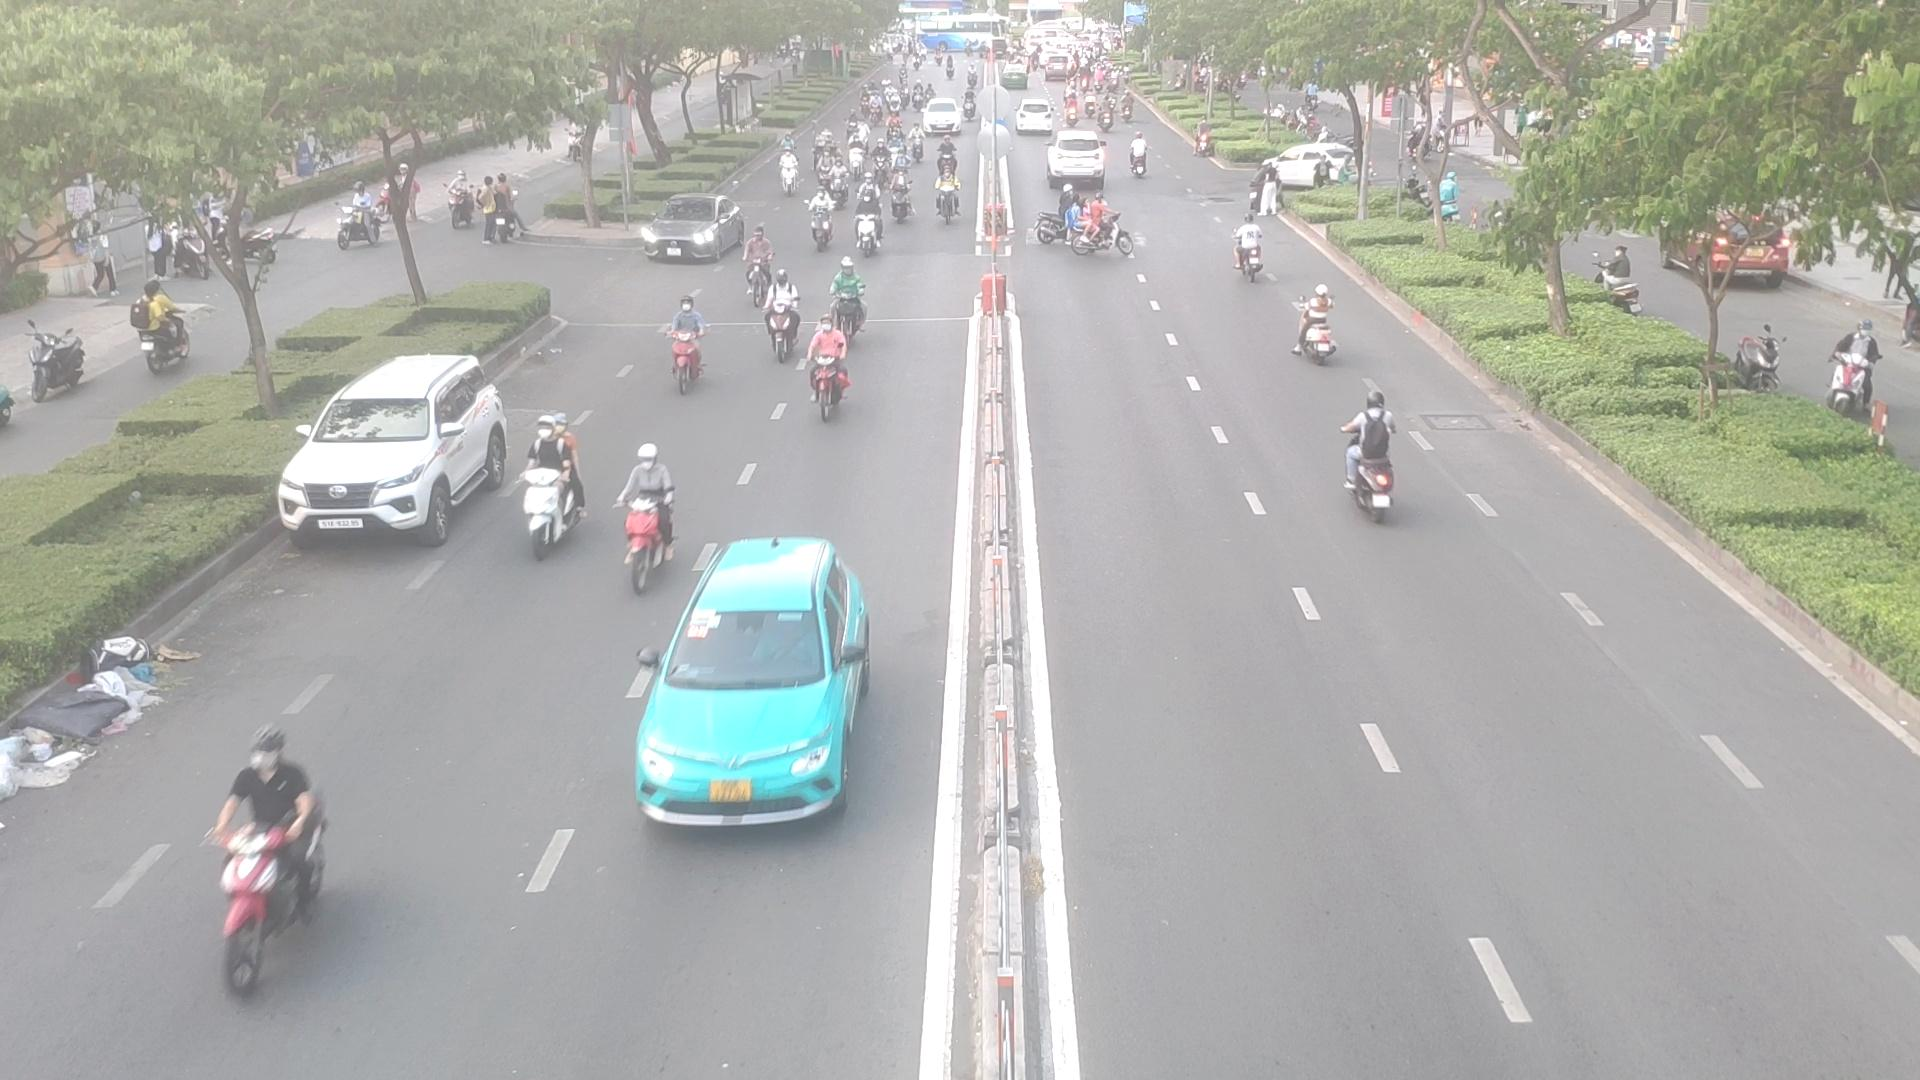car: (628, 535, 866, 827), (272, 349, 517, 542), (634, 196, 746, 262), (1255, 144, 1365, 187), (1039, 135, 1114, 193)
motorbike: (164, 727, 339, 1005), (1341, 389, 1400, 527), (531, 411, 574, 551), (626, 440, 666, 578), (1295, 282, 1342, 371), (1069, 196, 1135, 258), (808, 319, 841, 422), (1226, 218, 1273, 280), (738, 225, 770, 310), (767, 266, 796, 357), (675, 294, 702, 384), (836, 253, 861, 342), (855, 186, 880, 247), (810, 187, 829, 241), (943, 167, 960, 225), (891, 164, 911, 214), (1127, 129, 1147, 179), (778, 152, 796, 193), (815, 148, 833, 182), (939, 135, 953, 177), (847, 138, 865, 171), (872, 141, 885, 185), (911, 124, 926, 161), (831, 160, 843, 200), (885, 132, 899, 156)
